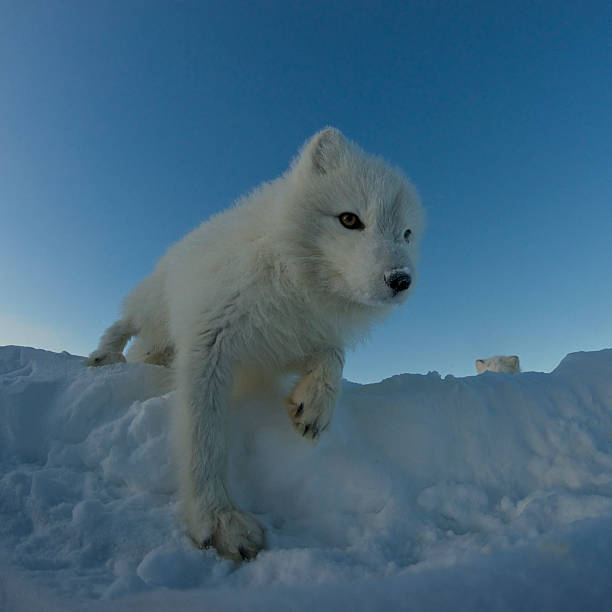arcticfox: (306, 150, 435, 320)
